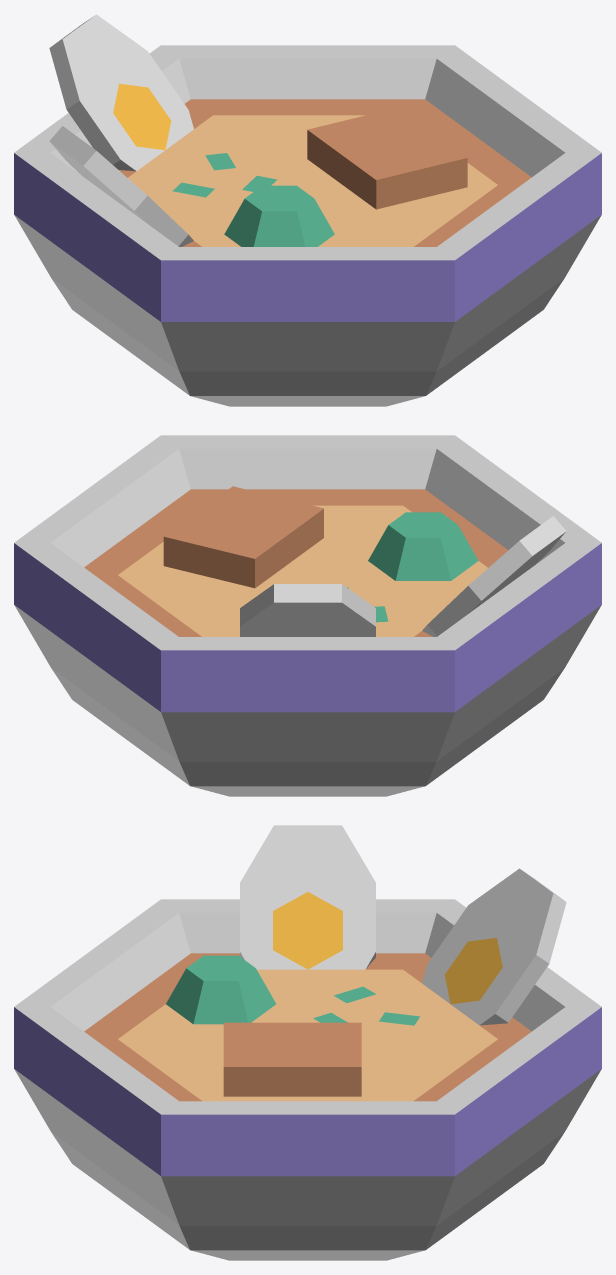
Rendered from bowlBroth.dae.
The picture shows the model from 3 angles, top to bottom: view 1: azimuth 30°, elevation 25°; view 2: azimuth 150°, elevation 25°; view 3: azimuth 270°, elevation 25°; orthographic projection.
Parts seen in each view (by area): view 1: bowlBroth, Group (×2); view 2: bowlBroth, Group (×2); view 3: bowlBroth, Group (×2).
Part boxes in pixels (<box>): bowlBroth: <box>14,45,601,406</box>; Group (×2): <box>49,14,193,246</box>; bowlBroth: <box>14,435,601,796</box>; Group (×2): <box>240,516,566,636</box>; bowlBroth: <box>14,899,601,1260</box>; Group (×2): <box>240,825,566,1025</box>.
Bounding box in the file's own units: 0.5262 × 0.2903 × 0.5798.
